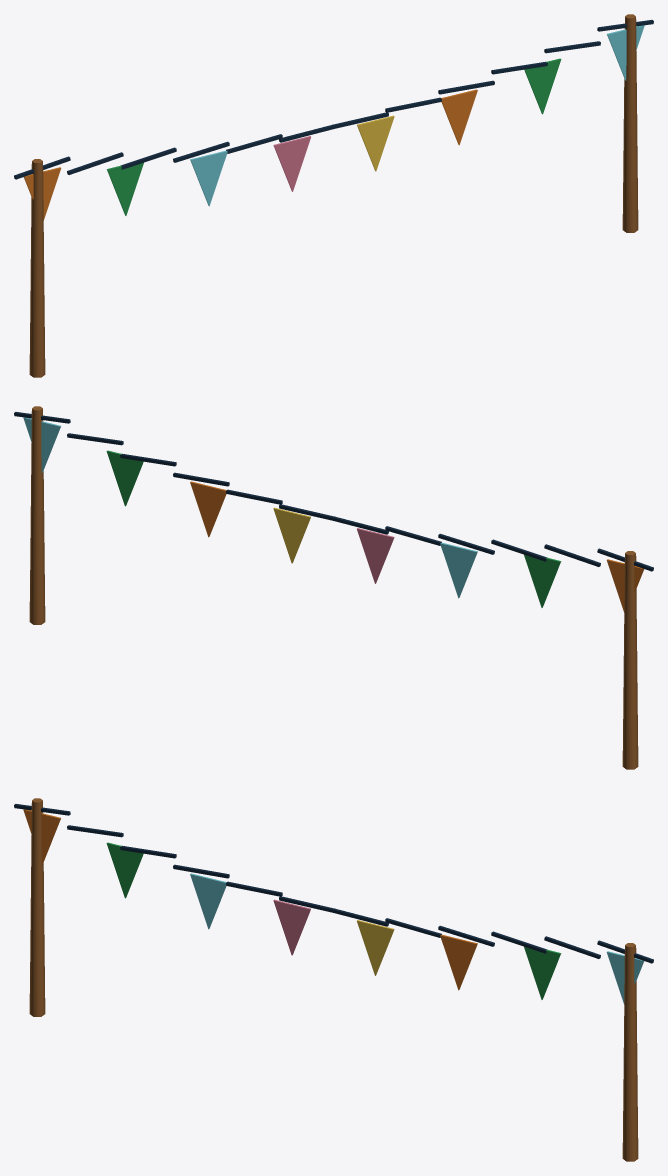
File: bunting.glb
The picture shows the model from 3 angles, top to bottom: view 1: azimuth 30°, elevation 25°; view 2: azimuth 150°, elevation 25°; view 3: azimuth 330°, elevation 25°; orthographic projection.
Parts seen in each view (by area): view 1: bunting_mesh; view 2: bunting_mesh; view 3: bunting_mesh.
Boxes of the visible parts, x1,y1,x2,y2 form: bunting_mesh: (14, 14, 653, 377); bunting_mesh: (14, 406, 653, 769); bunting_mesh: (14, 798, 653, 1161).
Bounding box in the file's own units: 6.57 × 2.1 × 0.14.
